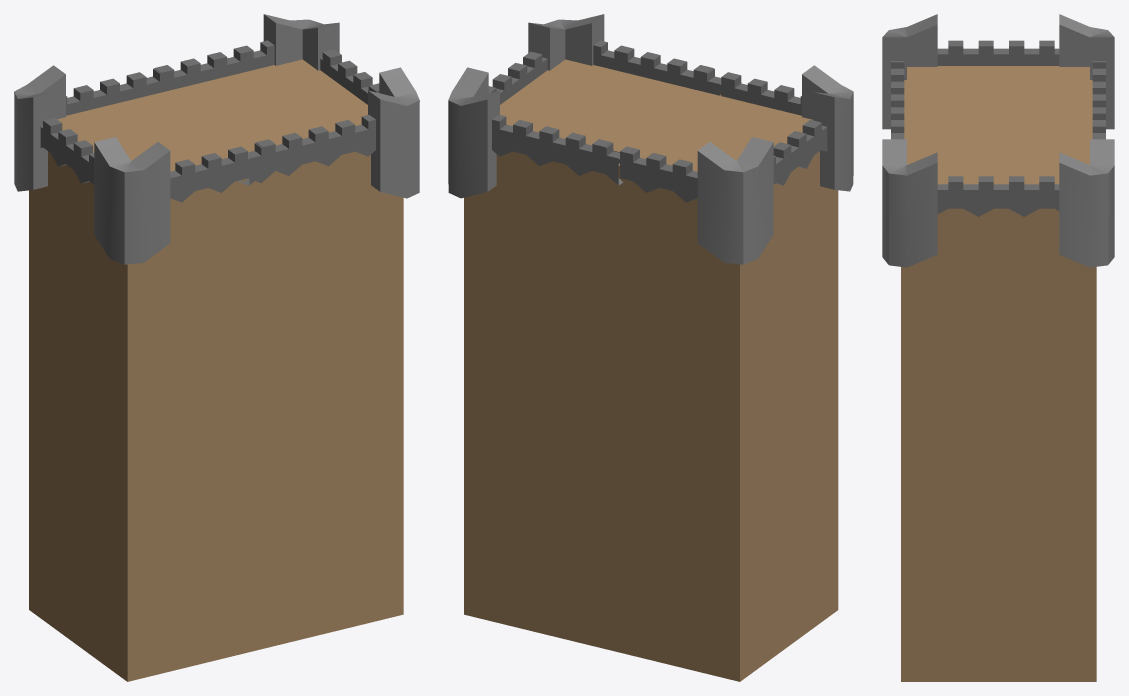
The model's file is Torre2.fbx.
3 views of the same model, side by side, from view 1: azimuth 30°, elevation 25°; view 2: azimuth 150°, elevation 25°; view 3: azimuth 270°, elevation 25° (orthographic).
Parts seen in each view (by area): view 1: 346; view 2: 346; view 3: 346.
Boxes of the visible parts, box(x1,y1,x2,y2) form: 346: box(14, 14, 419, 681); 346: box(448, 14, 853, 681); 346: box(882, 14, 1114, 681).
Size of the model in its own units: 667 by 1102 by 440.
